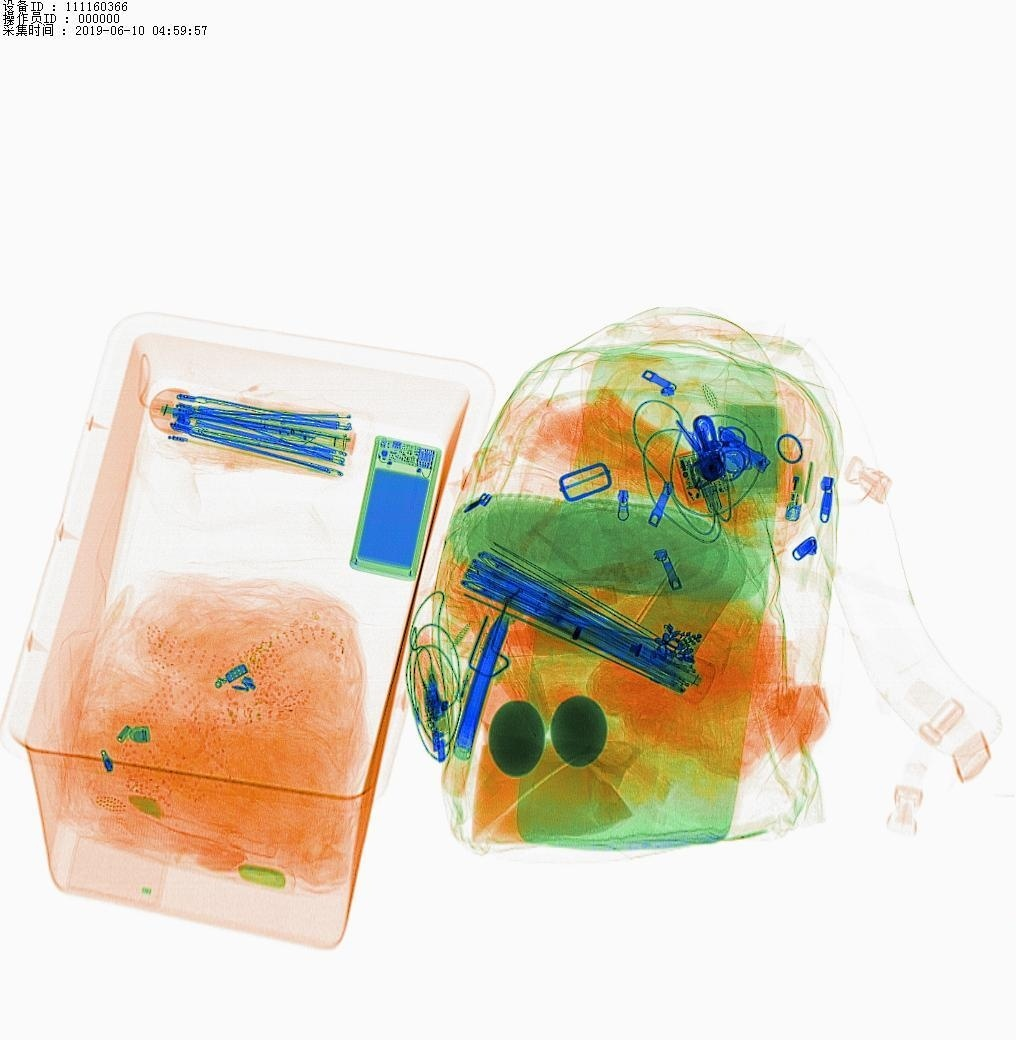NonmetallicFire: (769, 422, 814, 530)
